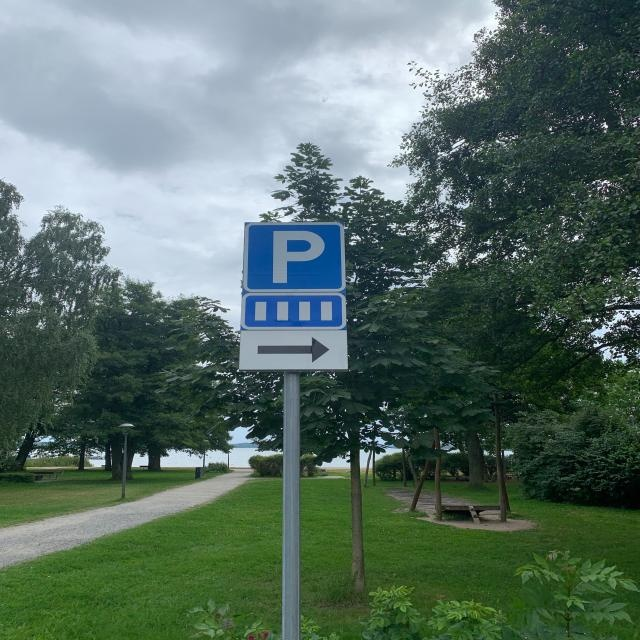avstignnigsplats: (244, 222, 347, 291)
